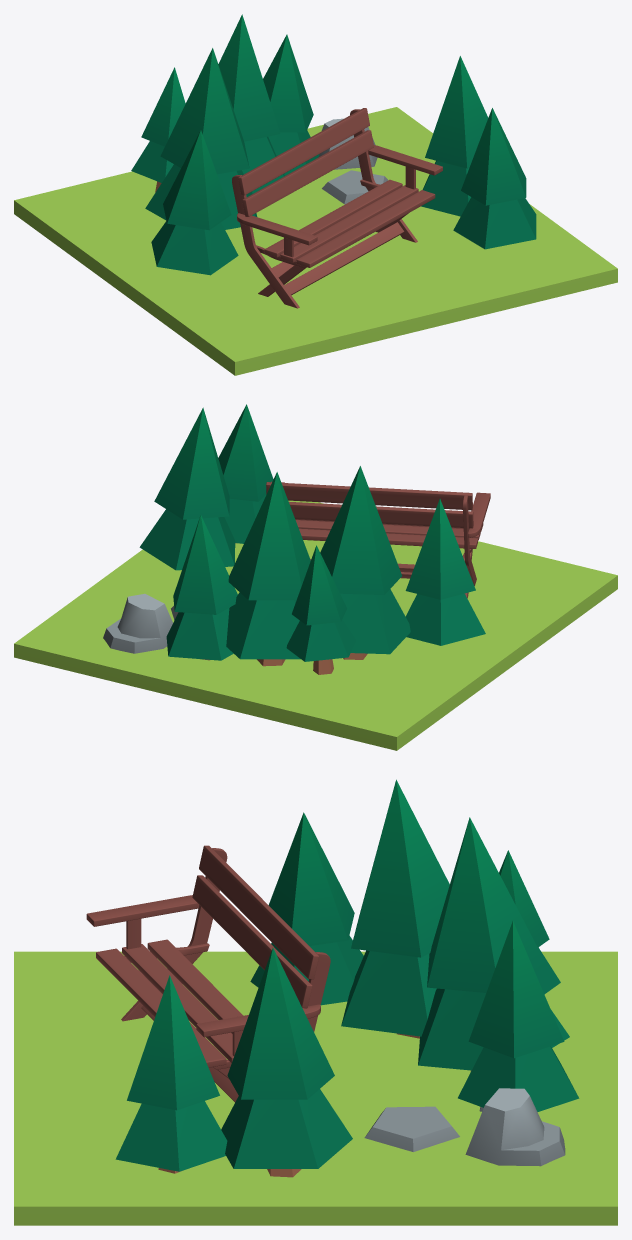
Rendered from bench.glb.
3 views of the same model, one above another, from view 1: azimuth 30°, elevation 25°; view 2: azimuth 150°, elevation 25°; view 3: azimuth 270°, elevation 25° (orthographic). The views are drawn at different scales.
Parts seen in each view (by area): view 1: Bench; view 2: Bench; view 3: Bench.
Boxes of the visible parts, x1,y1,x2,y2 form: Bench: [14, 14, 617, 375]; Bench: [14, 404, 617, 750]; Bench: [14, 779, 617, 1225].
Bounding box in the file's own units: 0.29 × 0.1461 × 0.29.
Materials: 2 (2 with a texture image).
